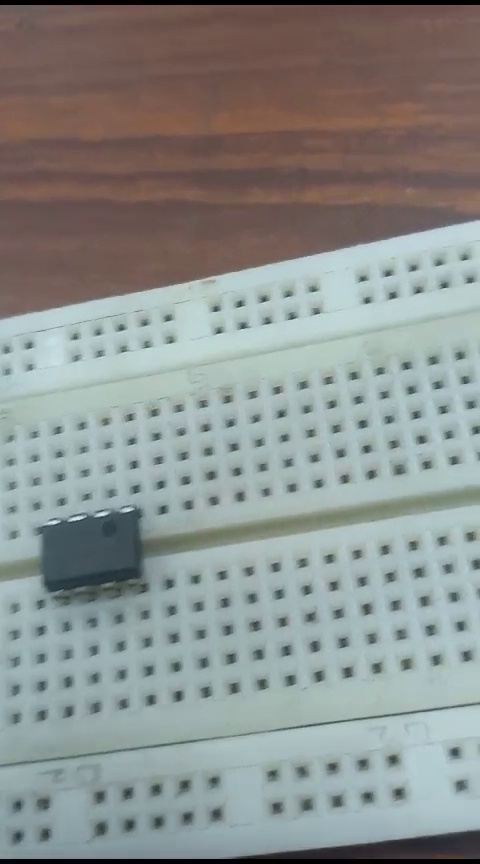IC: (34, 509, 163, 597)
